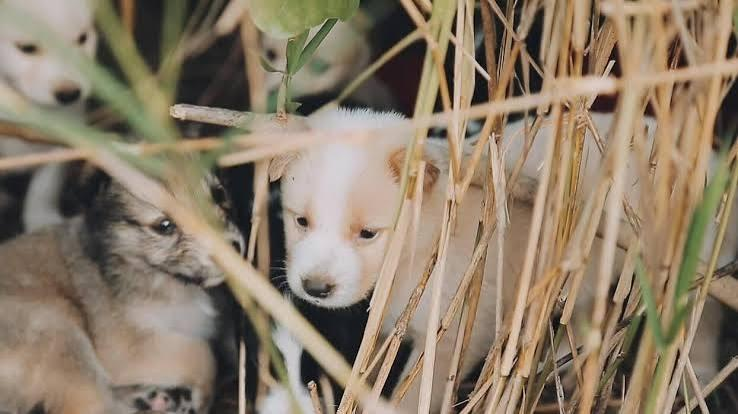puppy-dog: (269, 98, 725, 408), (0, 140, 248, 414), (0, 0, 162, 241), (236, 0, 372, 146)
